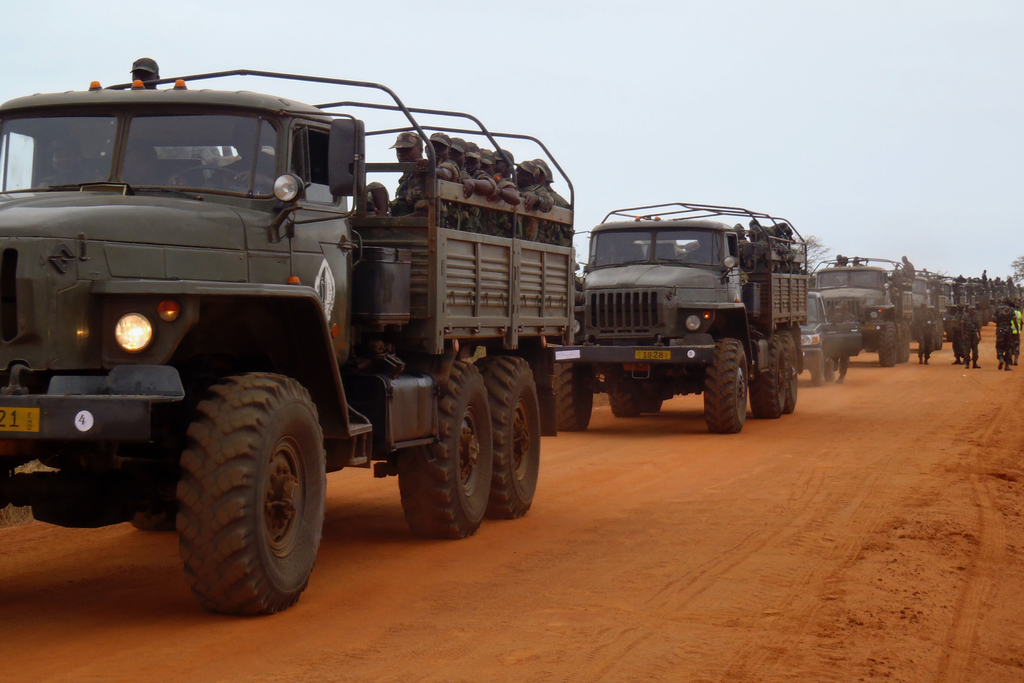truck: (1, 56, 597, 626), (550, 175, 829, 438), (819, 242, 926, 364)
